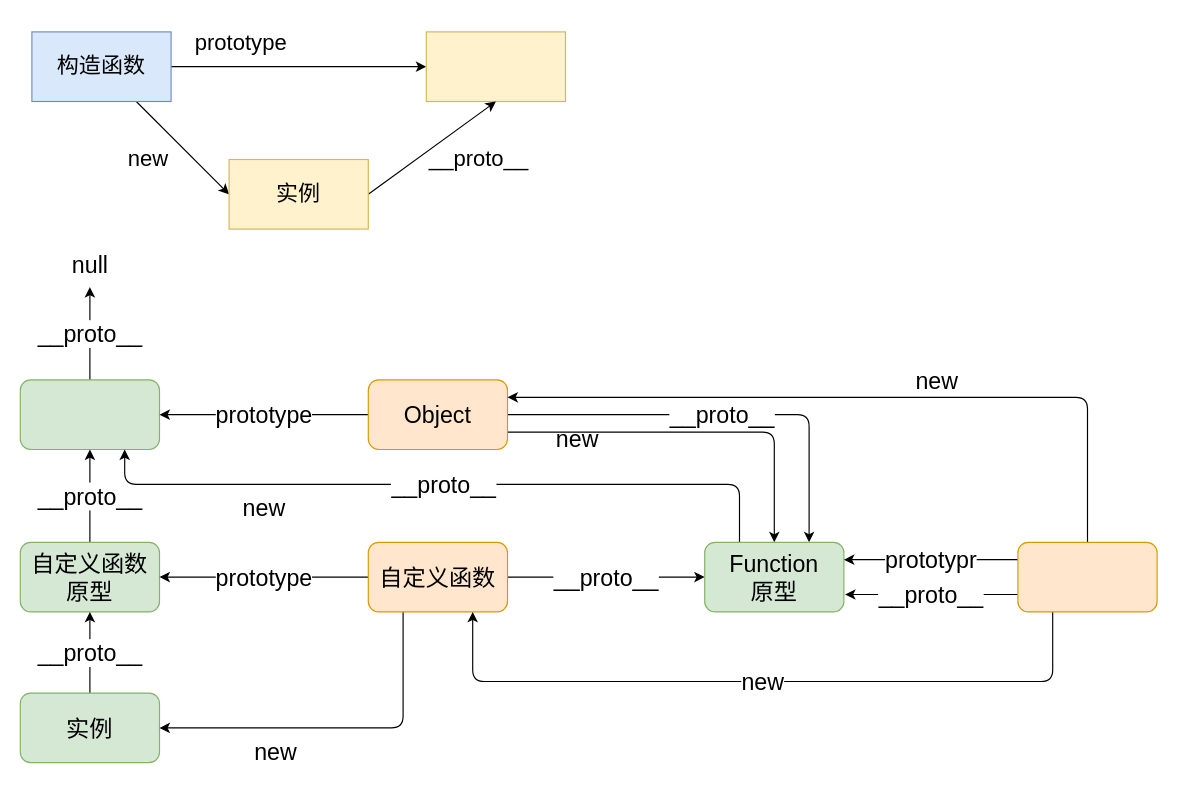
This 1177x793 diagram has some shape labels left out. Each missing label, with the centre of its shape:
"Function" belongs at point 1087,576.
"Object 原型" belongs at point 89,414.
"原型" belongs at point 495,66.
